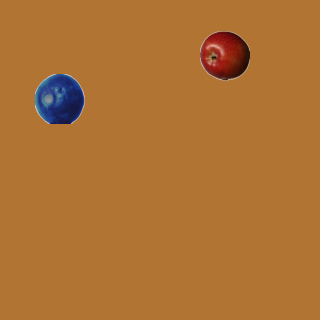Apple Braeburn: (199, 30, 249, 80)
Huckleberry: (34, 73, 84, 123)
